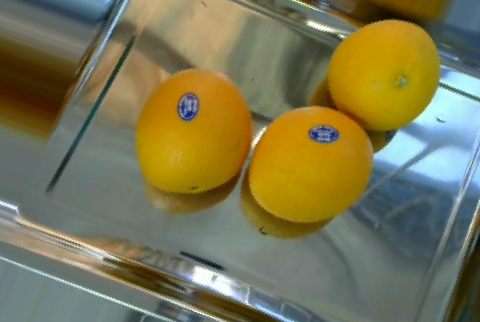Orange: (247, 105, 375, 224), (133, 67, 251, 196), (327, 20, 442, 133)
